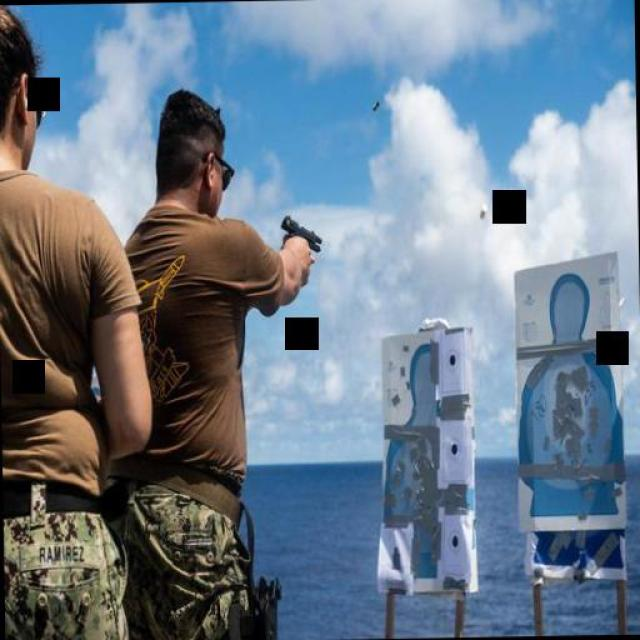gun: (276, 210, 324, 268)
